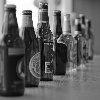beer: (1, 4, 26, 96)
